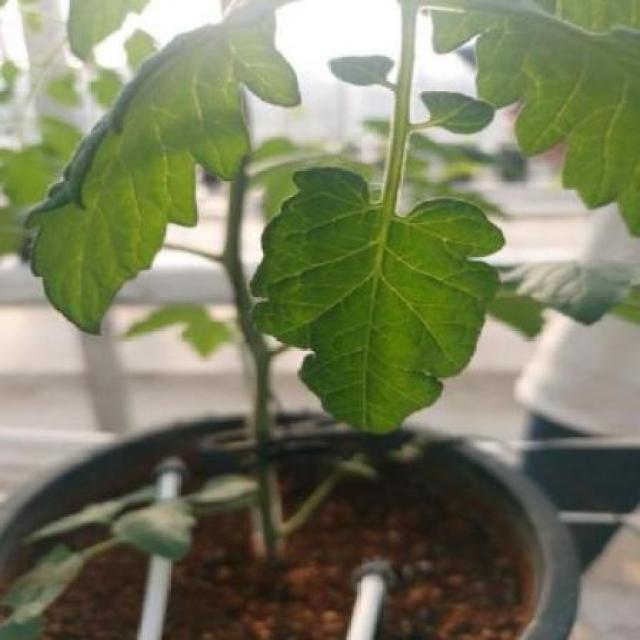Healthy: (26, 9, 300, 334), (250, 167, 507, 434)
